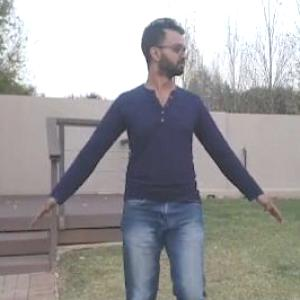land: (28, 9, 289, 299)
